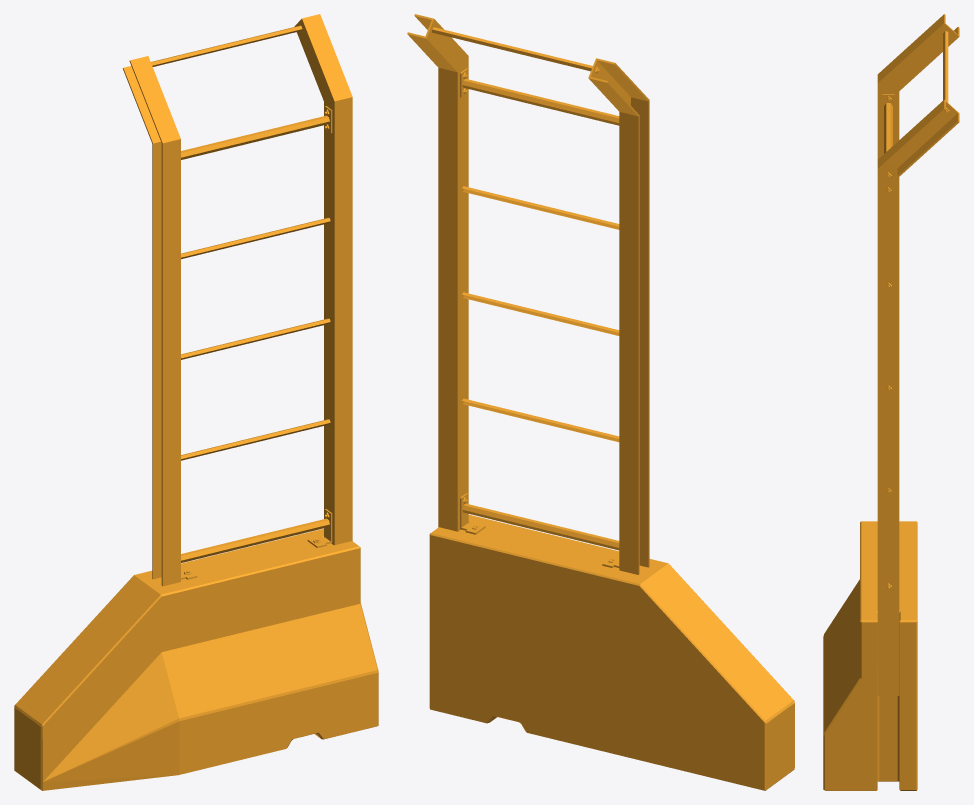
The model's file is SM_Fence_Road_Debrisguard_Bar_2m_L.fbx.
The picture shows the model from 3 angles, left to right: view 1: azimuth 30°, elevation 25°; view 2: azimuth 150°, elevation 25°; view 3: azimuth 270°, elevation 25°; orthographic projection. The views are drawn at different scales.
Visible parts, largest first — view 1: SM_Fence_Road_Debrisguard_Bar_2m_L; view 2: SM_Fence_Road_Debrisguard_Bar_2m_L; view 3: SM_Fence_Road_Debrisguard_Bar_2m_L.
Boxes of the visible parts, box(x1,y1,x2,y2) form: SM_Fence_Road_Debrisguard_Bar_2m_L: box(14, 14, 378, 790); SM_Fence_Road_Debrisguard_Bar_2m_L: box(407, 14, 794, 790); SM_Fence_Road_Debrisguard_Bar_2m_L: box(823, 14, 959, 790).
Bounding box in the file's own units: 2 × 4 × 0.7223.
